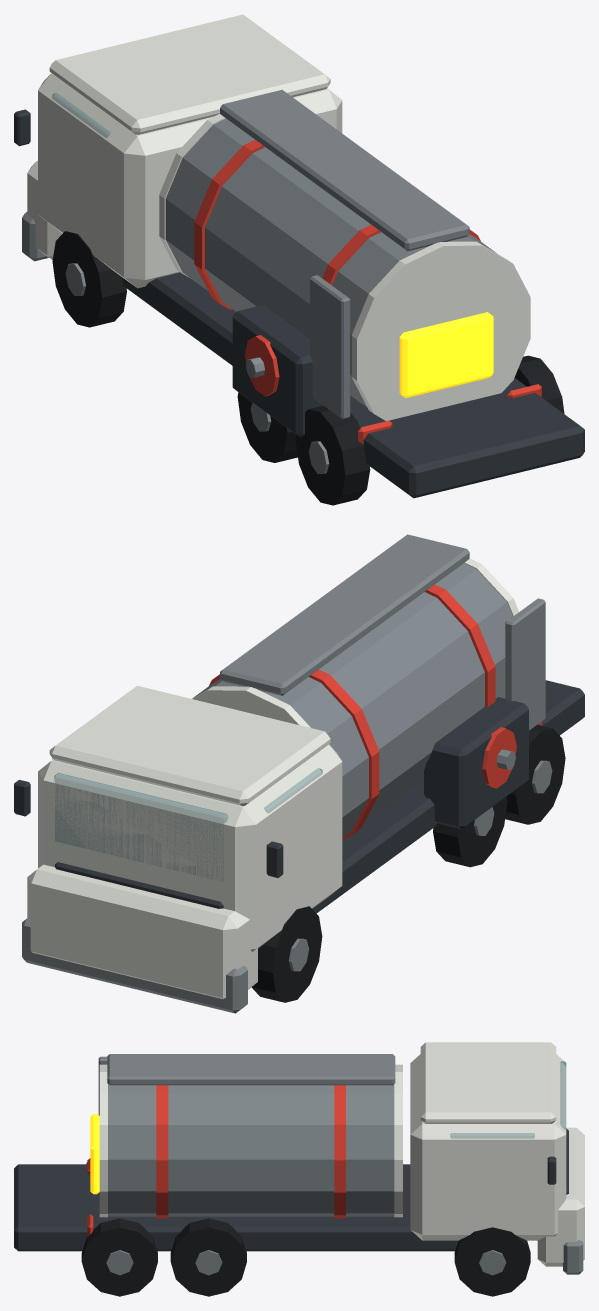
Rendered from tanker.glb.
3 renders of one model, top to bottom at view 1: azimuth 30°, elevation 25°; view 2: azimuth 150°, elevation 25°; view 3: azimuth 270°, elevation 25°, orthographic. The views are drawn at different scales.
Parts seen in each view (by area): view 1: TankerBarrel, TankerCab, TankerChassis, TankerBarrelCap.001, TankerRoof, TankerWalk, TankerValveBox, TankerHazardPlate, TankerLadder, Wheel.002, Wheel, TankerBand (+7 smaller); view 2: TankerCab, TankerBarrel, TankerRoof, TankerNose, TankerWalk, TankerValveBox, TankerChassis, TankerWindshield, TankerLadder, Wheel, TankerBumper, Wheel.002 (+6 smaller); view 3: TankerBarrel, TankerCab, TankerChassis, TankerRoof, TankerWalk, Wheel.004, Wheel.005, Wheel.003, TankerNose, TankerBand.001, TankerBand, TankerBarrelCap.001 (+8 smaller).
Part boxes in pixels (left/top/right/bottom): TankerBarrel: left=165, top=118, right=495, bottom=407; TankerCab: left=38, top=73, right=342, bottom=288; TankerChassis: left=122, top=272, right=584, bottom=498; TankerBarrelCap.001: left=351, top=241, right=530, bottom=420; TankerRoof: left=49, top=14, right=330, bottom=134; TankerWalk: left=220, top=89, right=469, bottom=251; TankerValveBox: left=232, top=305, right=323, bottom=437; TankerHazardPlate: left=399, top=312, right=493, bottom=398; TankerLadder: left=310, top=275, right=350, bottom=418; Wheel.002: left=295, top=405, right=370, bottom=505; Wheel: left=52, top=231, right=126, bottom=327; TankerBand: left=194, top=140, right=264, bottom=309; TankerCab: left=38, top=744, right=342, bottom=951; TankerBarrel: left=193, top=563, right=512, bottom=837; TankerRoof: left=49, top=685, right=330, bottom=805; TankerNose: left=27, top=864, right=257, bottom=999; TankerWalk: left=220, top=534, right=469, bottom=695; TankerValveBox: left=424, top=697, right=528, bottom=829; TankerChassis: left=312, top=680, right=584, bottom=913; TankerWindshield: left=54, top=773, right=228, bottom=881; TankerLadder: left=505, top=598, right=545, bottom=730; Wheel: left=251, top=906, right=322, bottom=1002; TankerBumper: left=22, top=918, right=247, bottom=1013; Wheel.002: left=505, top=724, right=565, bottom=824; TankerBarrel: left=108, top=1084, right=394, bottom=1216; TankerCab: left=410, top=1054, right=566, bottom=1240; TankerChassis: left=14, top=1164, right=458, bottom=1251; TankerRoof: left=420, top=1042, right=556, bottom=1123; TankerWalk: left=107, top=1054, right=395, bottom=1085; Wheel.004: left=170, top=1218, right=246, bottom=1296; Wheel.005: left=81, top=1218, right=157, bottom=1296; Wheel.003: left=454, top=1227, right=530, bottom=1296; TankerNose: left=537, top=1127, right=584, bottom=1266; TankerBand.001: left=156, top=1085, right=168, bottom=1218; TankerBand: left=334, top=1085, right=345, bottom=1218; TankerBarrelCap.001: left=99, top=1064, right=107, bottom=1217.
Bounding box in the file's own units: 2.78 × 2.48 × 6.74.
